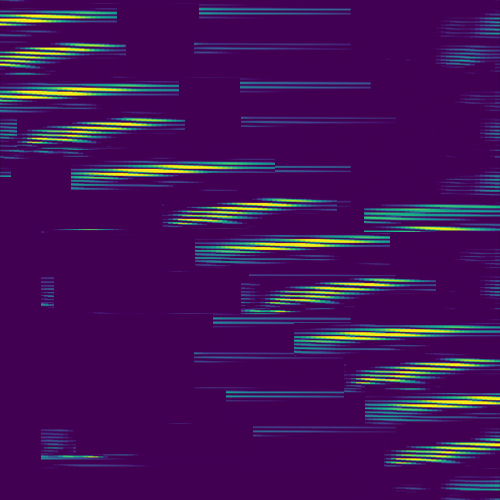semblance: (258, 274, 423, 315), (163, 194, 322, 226), (22, 115, 183, 145), (350, 354, 496, 385), (71, 157, 243, 183), (1, 39, 120, 72), (195, 234, 369, 254), (1, 81, 147, 104), (391, 436, 500, 466), (307, 324, 461, 344), (1, 7, 104, 27), (388, 394, 500, 412)
